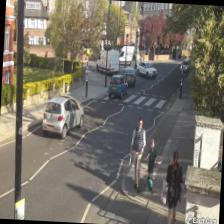person: (162, 149, 183, 224), (128, 117, 146, 191), (144, 138, 156, 190)
